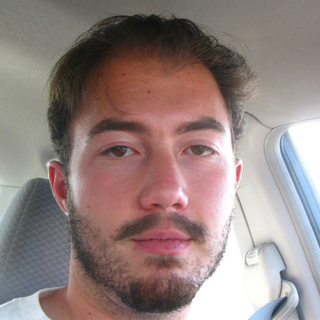eye: (176, 139, 224, 163), (95, 140, 145, 163)
